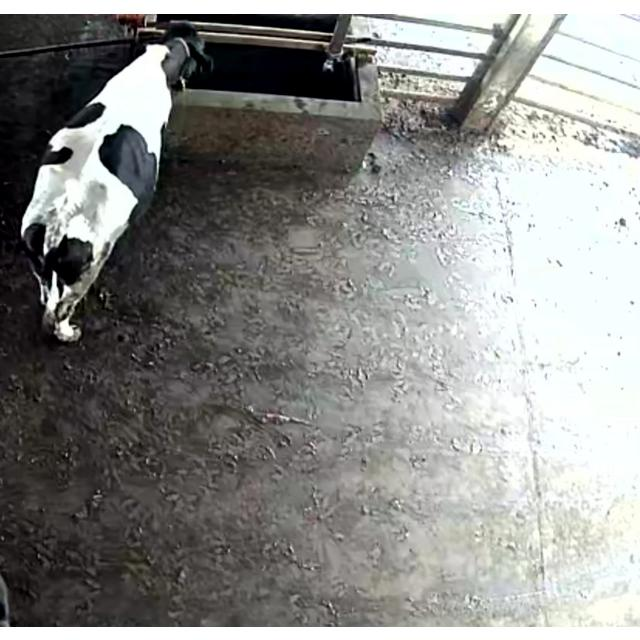drink: (107, 12, 227, 126)
